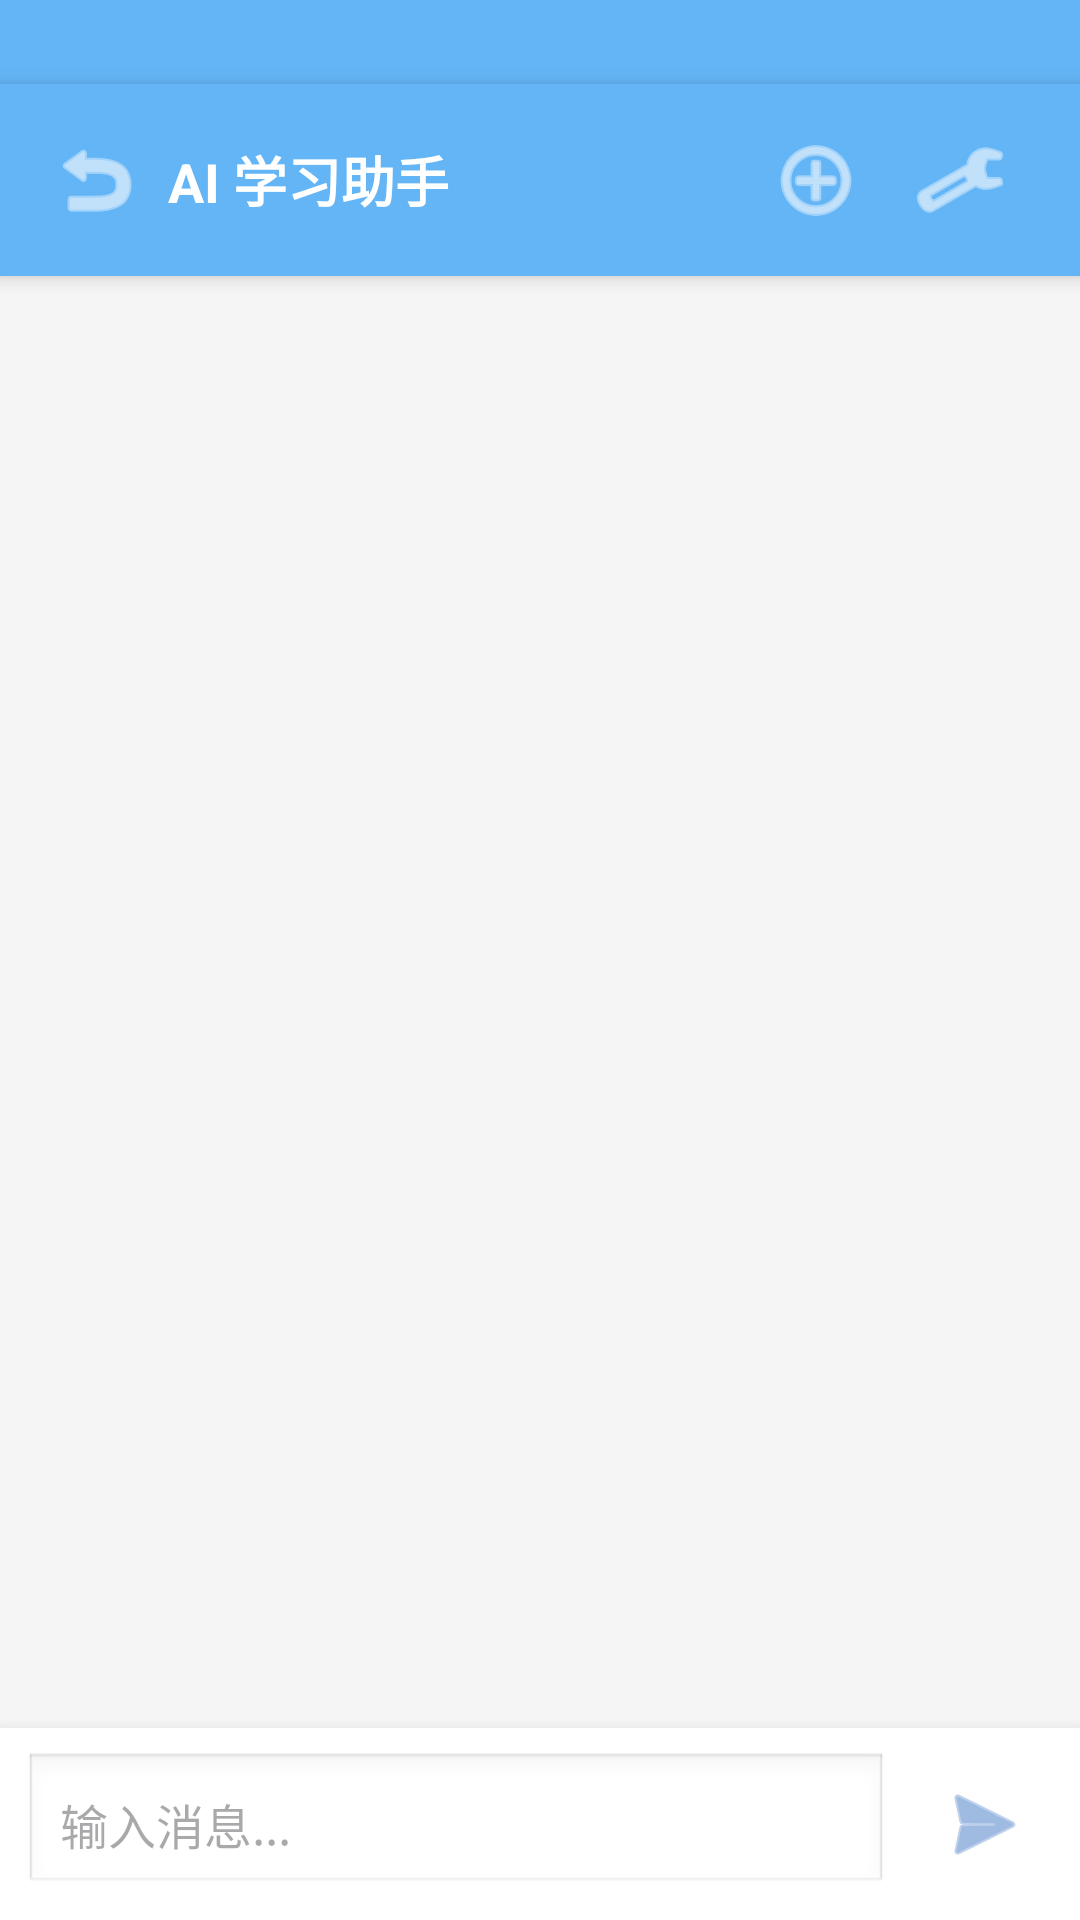

Screen size 1080*1920. Icon name, then its box in pixels as (x1, y1, x2, y2):
发送: (954, 1794, 1015, 1855)
设置: (917, 147, 1003, 213)
返回: (63, 150, 132, 212)
